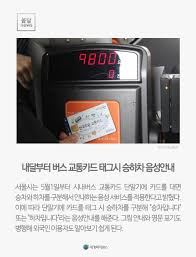terminal: (36, 46, 154, 143)
